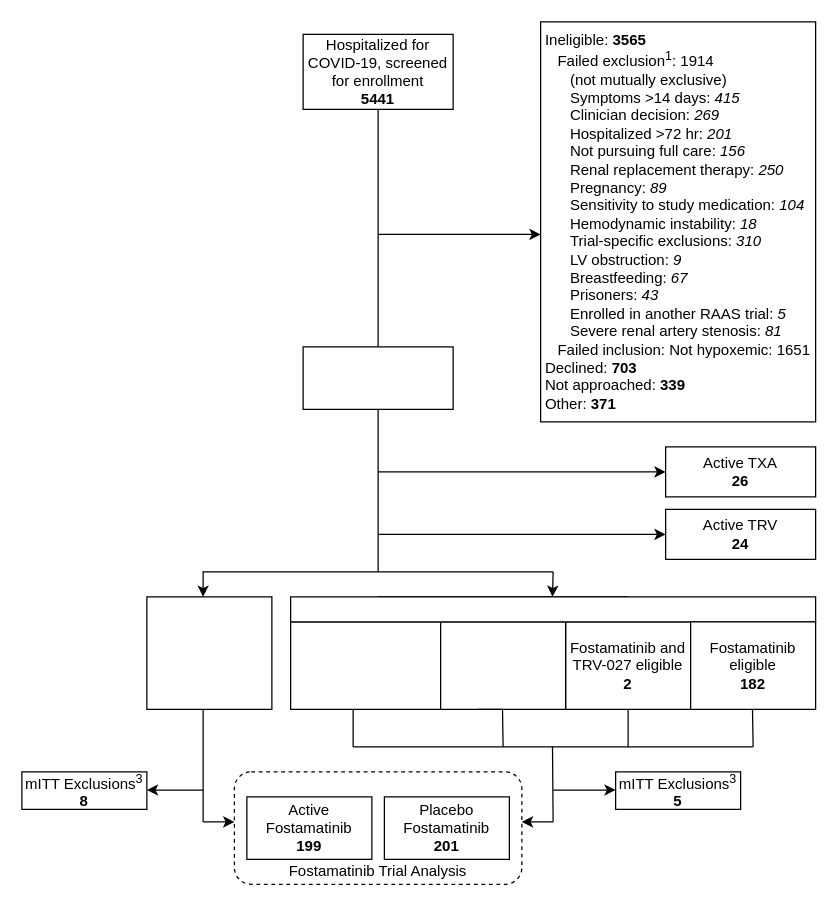
This 838x906 diagram has some shape labels left out. Each missing label, with the centre of its shape:
"Active Fostamatinib 207" belongs at (x=209, y=652).
"Fostamatinib and TXA-127 eligible 2" belongs at (x=502, y=665).
"Fostamatinib, TXA-127 and TRV-027 eligible 20" belongs at (x=365, y=665).
"Placebo: 206" belongs at (x=552, y=609).
"Randomized 2 463" belongs at (x=377, y=377).
